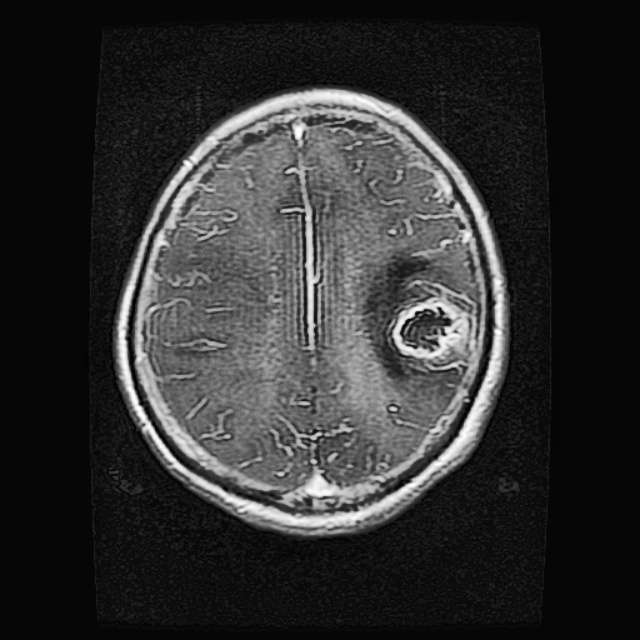Glioma: (365, 253, 474, 378)
